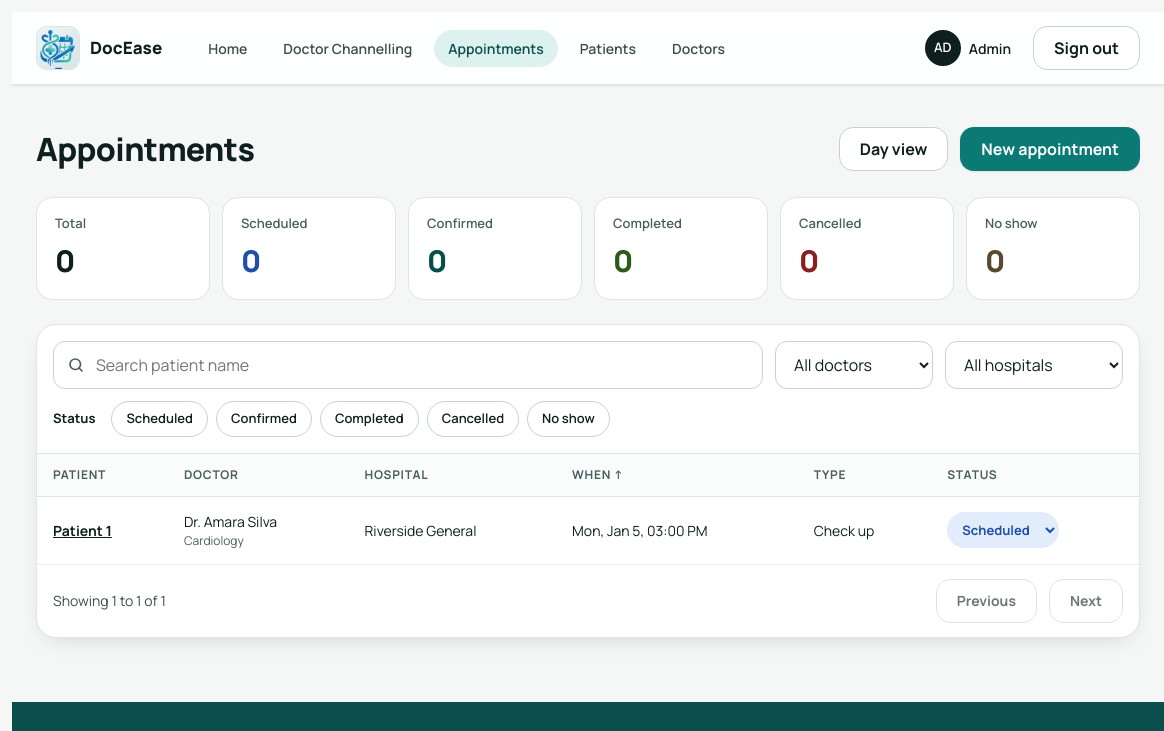
Test: status quick-change › rolls back and shows an error when the API refuses
This screenshot has width=1164, height=731.
Select "Cancelled" in the dropdown named "Status for Patient 1" at (1003, 530), box [947,512,1059,548]
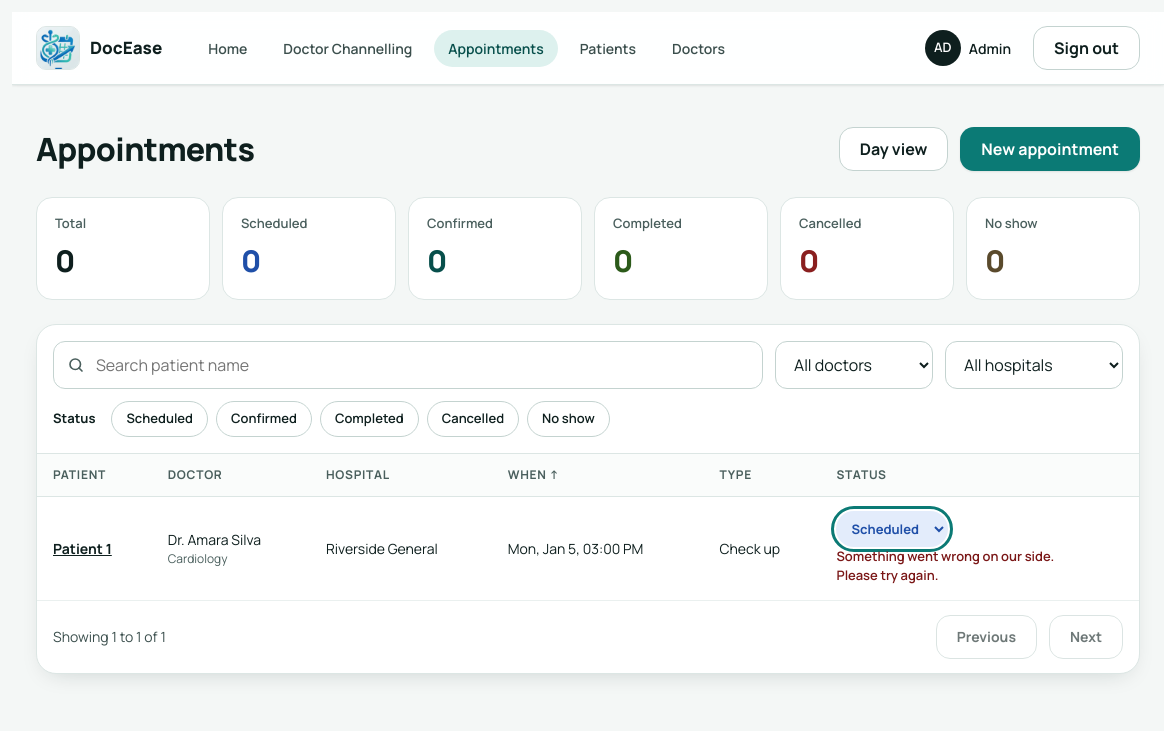
Expected: the message "Something went wrong on our side. Please try again." is shown, [836,546,1056,586]
